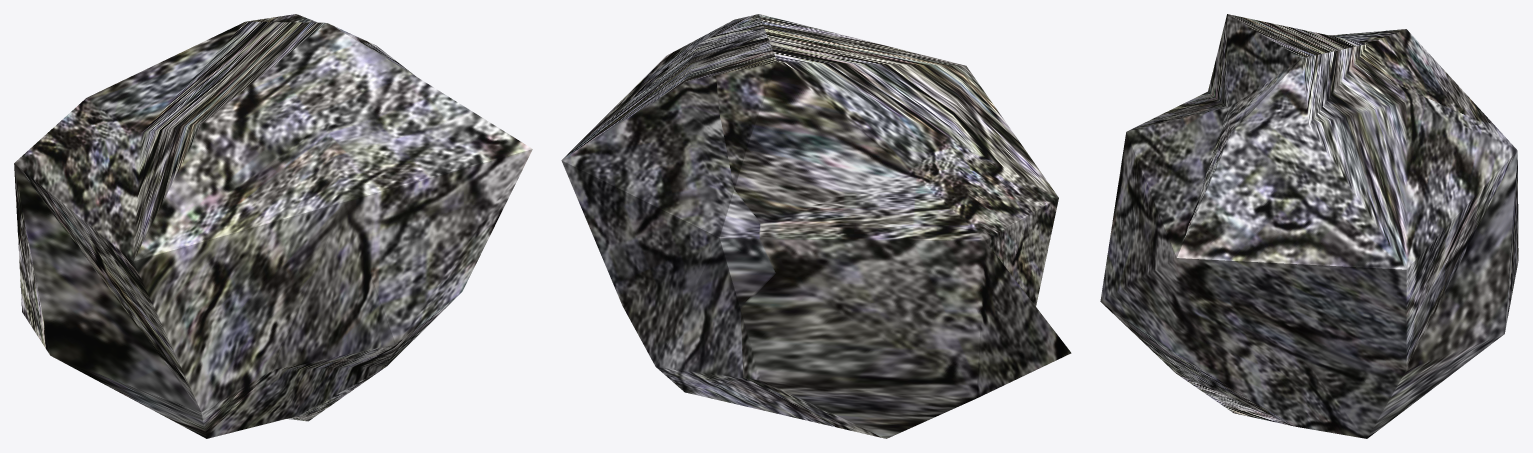
File: rock3.fbx
3 views of the same model, side by side, from view 1: azimuth 30°, elevation 25°; view 2: azimuth 150°, elevation 25°; view 3: azimuth 270°, elevation 25° (orthographic). The views are drawn at different scales.
Parts seen in each view (by area): view 1: pPlatonic1; view 2: pPlatonic1; view 3: pPlatonic1.
Part boxes in pixels (x1,y1,x2,y2): pPlatonic1: (14, 14, 532, 438); pPlatonic1: (561, 14, 1071, 438); pPlatonic1: (1100, 14, 1518, 438).
Size of the model in its own units: 23.32 by 18.7 by 18.6.
Materials: 1 (1 with a texture image).
